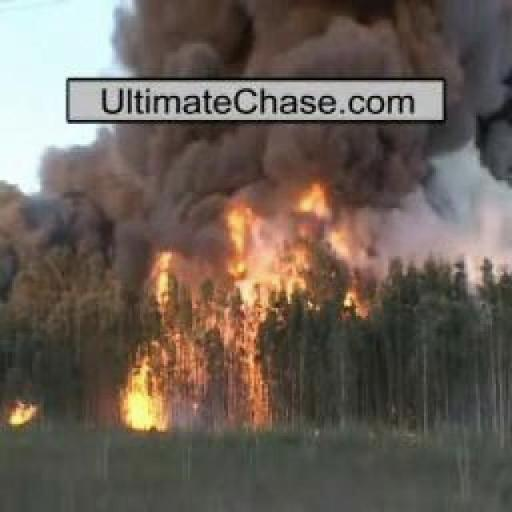smoke: (214, 182, 348, 436), (118, 326, 172, 434), (12, 400, 34, 428)
